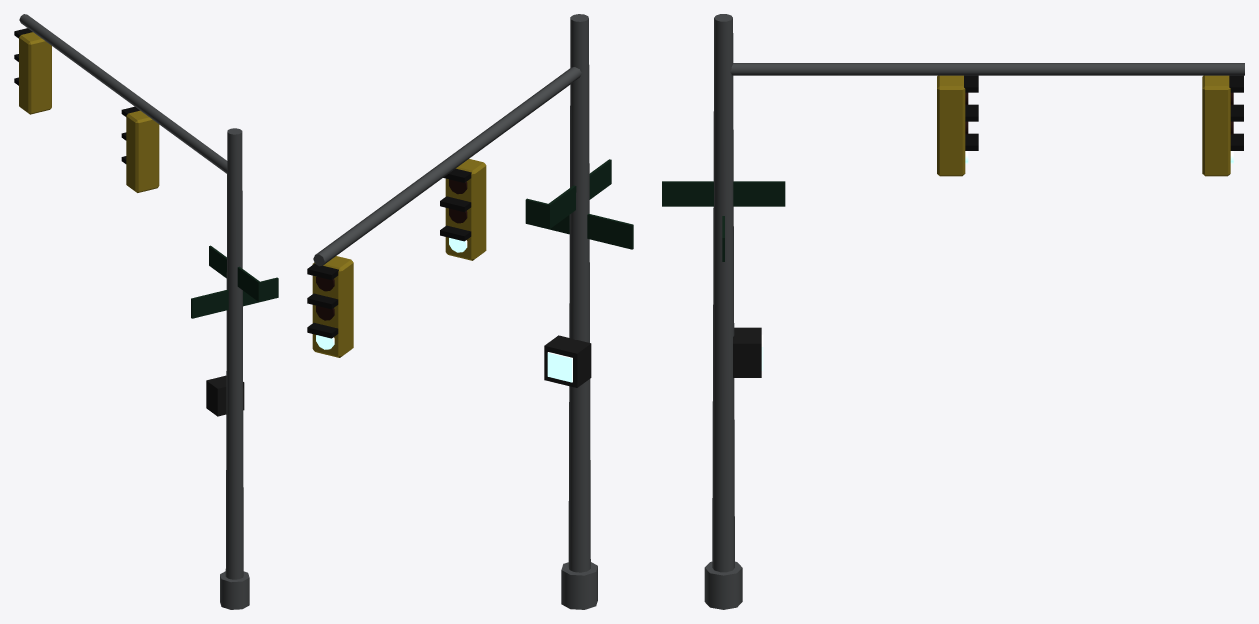
The model's file is traffic_signal.glb.
The picture shows the model from 3 angles, left to right: view 1: azimuth 30°, elevation 25°; view 2: azimuth 150°, elevation 25°; view 3: azimuth 270°, elevation 25°; orthographic projection. The views are drawn at different scales.
Visible parts, largest first — view 1: signal_body; view 2: signal_body, signal_glow; view 3: signal_body.
Part boxes in pixels (bbox=[...]): signal_body: bbox=[14, 14, 278, 609]; signal_body: bbox=[307, 14, 633, 609]; signal_glow: bbox=[316, 238, 572, 382]; signal_body: bbox=[662, 14, 1244, 609].
Size of the model in its own units: 1.3 by 6.8 by 6.15.
